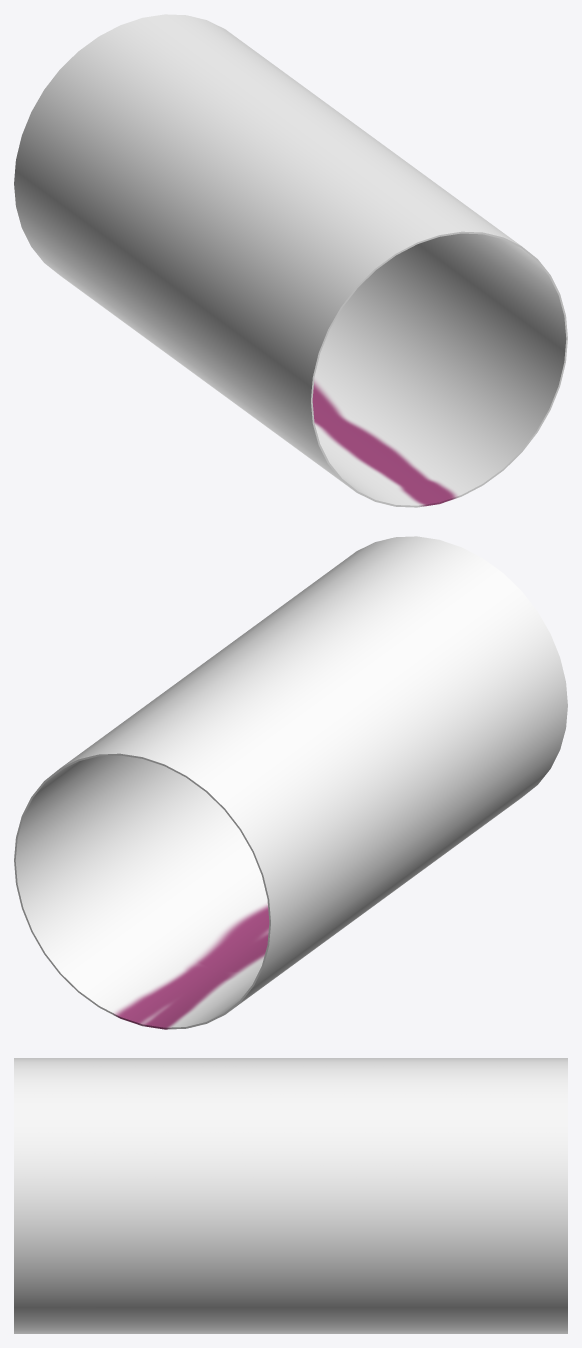
The model's file is Medium straight tube.fbx.
3 renders of one model, top to bottom at view 1: azimuth 30°, elevation 25°; view 2: azimuth 150°, elevation 25°; view 3: azimuth 270°, elevation 25°, orthographic. The views are drawn at different scales.
Parts seen in each view (by area): view 1: Medium straight tube.002; view 2: Medium straight tube.002; view 3: Medium straight tube.002.
Part boxes in pixels (left/top/right/bottom): Medium straight tube.002: left=14, top=14, right=567, bottom=507; Medium straight tube.002: left=14, top=536, right=567, bottom=1029; Medium straight tube.002: left=14, top=1058, right=567, bottom=1333.
Bounding box in the file's own units: 600 × 600 × 1200.
